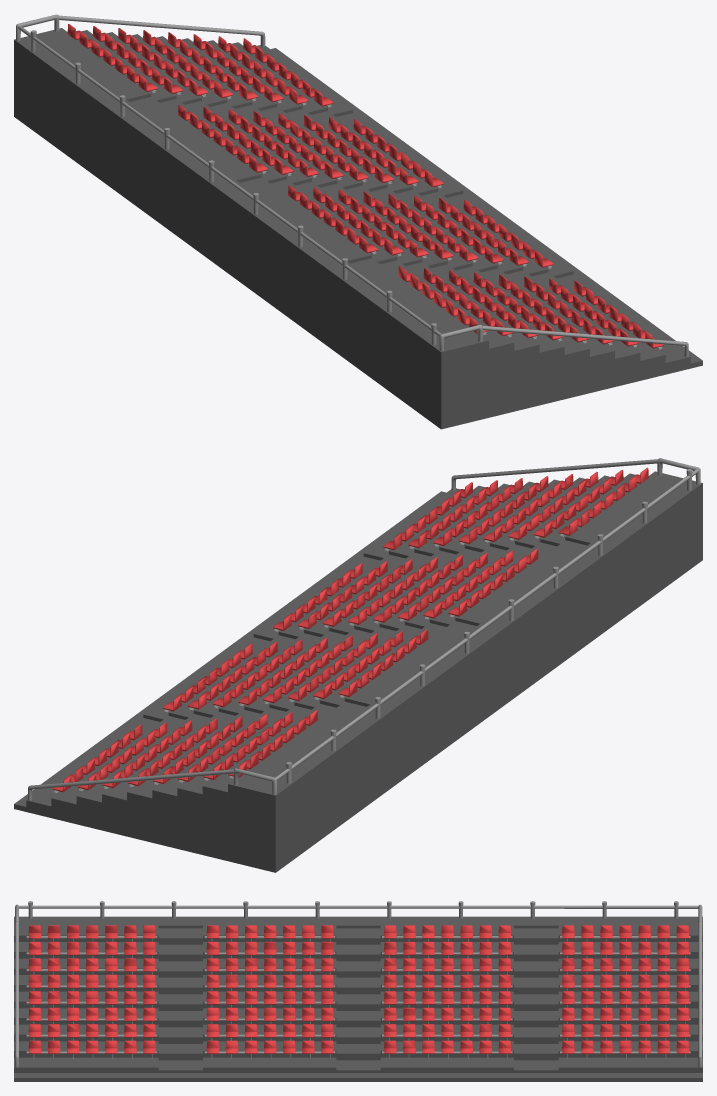
The model's file is tribune.glb.
3 renders of one model, top to bottom at view 1: azimuth 30°, elevation 25°; view 2: azimuth 150°, elevation 25°; view 3: azimuth 270°, elevation 25°, orthographic. The views are drawn at different scales.
Parts seen in each view (by area): view 1: Cube.011_Material_0, Cube.012_Material.001_0, Cube.078_Material.002_0; view 2: Cube.011_Material_0, Cube.012_Material.001_0, Cube.078_Material.002_0; view 3: Cube.011_Material_0, Cube.012_Material.001_0, Cube.078_Material.002_0.
Part boxes in pixels (bbox=[...]): Cube.011_Material_0: bbox=[14, 28, 702, 429]; Cube.012_Material.001_0: bbox=[67, 24, 663, 348]; Cube.078_Material.002_0: bbox=[16, 14, 688, 356]; Cube.011_Material_0: bbox=[14, 471, 702, 872]; Cube.012_Material.001_0: bbox=[52, 467, 648, 792]; Cube.078_Material.002_0: bbox=[27, 458, 700, 800]; Cube.011_Material_0: bbox=[14, 916, 702, 1081]; Cube.012_Material.001_0: bbox=[28, 925, 689, 1053]; Cube.078_Material.002_0: bbox=[15, 901, 702, 1067].
Bounding box in the file's own units: 10.97 × 3.87 × 31.
